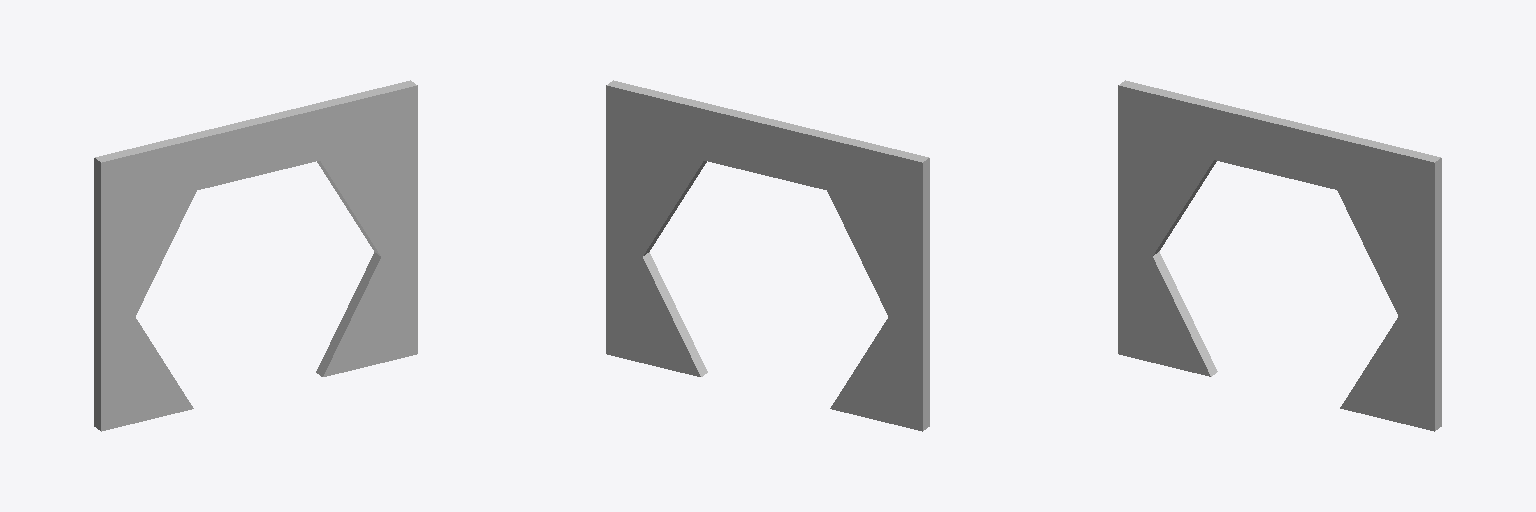
File: HuecoPuerta2.obj
3 views of the same model, side by side, from view 1: azimuth 30°, elevation 25°; view 2: azimuth 150°, elevation 25°; view 3: azimuth 330°, elevation 25° (orthographic).
Visible parts, largest first — view 1: HuecoPuerta2_Cube.007; view 2: HuecoPuerta2_Cube.007; view 3: HuecoPuerta2_Cube.007.
Part boxes in pixels (bbox=[...]): HuecoPuerta2_Cube.007: bbox=[94, 80, 417, 431]; HuecoPuerta2_Cube.007: bbox=[606, 80, 929, 431]; HuecoPuerta2_Cube.007: bbox=[1118, 80, 1441, 431].
Bounding box in the file's own units: 11.35 × 9.22 × 0.4273.